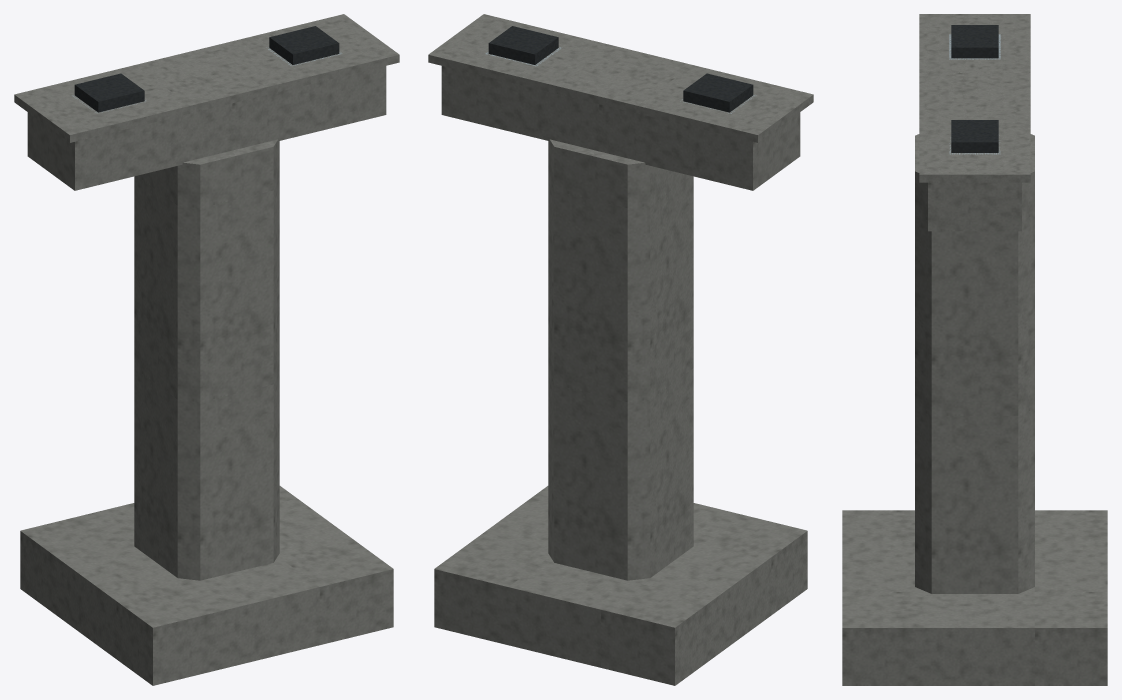
File: PZ_Caldera_Pier_06m.glb
3 renders of one model, left to right at view 1: azimuth 30°, elevation 25°; view 2: azimuth 150°, elevation 25°; view 3: azimuth 270°, elevation 25°, orthographic.
Visible parts, largest first — view 1: PZ_Caldera_Pier_06m_OCTAGONAL_REINFORCED_COLUMN, PZ_Caldera_Pier_06m_SPREAD_FOOTING, PZ_Caldera_Pier_06m_TOP_PLATE, PZ_Caldera_Pier_06m_REINFORCED_HEADSTOCK, PZ_Caldera_Pier_06m_ELASTOMERIC_BEARING_L, PZ_Caldera_Pier_06m_ELASTOMERIC_BEARING_R; view 2: PZ_Caldera_Pier_06m_OCTAGONAL_REINFORCED_COLUMN, PZ_Caldera_Pier_06m_SPREAD_FOOTING, PZ_Caldera_Pier_06m_TOP_PLATE, PZ_Caldera_Pier_06m_REINFORCED_HEADSTOCK, PZ_Caldera_Pier_06m_ELASTOMERIC_BEARING_L, PZ_Caldera_Pier_06m_ELASTOMERIC_BEARING_R; view 3: PZ_Caldera_Pier_06m_OCTAGONAL_REINFORCED_COLUMN, PZ_Caldera_Pier_06m_SPREAD_FOOTING, PZ_Caldera_Pier_06m_TOP_PLATE, PZ_Caldera_Pier_06m_REINFORCED_HEADSTOCK, PZ_Caldera_Pier_06m_ELASTOMERIC_BEARING_L, PZ_Caldera_Pier_06m_ELASTOMERIC_BEARING_R.
Boxes of the visible parts, <box> form: PZ_Caldera_Pier_06m_OCTAGONAL_REINFORCED_COLUMN: <box>134,139,279,580</box>; PZ_Caldera_Pier_06m_SPREAD_FOOTING: <box>20,486,393,685</box>; PZ_Caldera_Pier_06m_TOP_PLATE: <box>14,14,399,142</box>; PZ_Caldera_Pier_06m_REINFORCED_HEADSTOCK: <box>27,66,386,190</box>; PZ_Caldera_Pier_06m_ELASTOMERIC_BEARING_L: <box>74,73,144,112</box>; PZ_Caldera_Pier_06m_ELASTOMERIC_BEARING_R: <box>269,26,339,64</box>; PZ_Caldera_Pier_06m_OCTAGONAL_REINFORCED_COLUMN: <box>548,139,693,580</box>; PZ_Caldera_Pier_06m_SPREAD_FOOTING: <box>434,486,807,685</box>; PZ_Caldera_Pier_06m_TOP_PLATE: <box>428,14,813,142</box>; PZ_Caldera_Pier_06m_REINFORCED_HEADSTOCK: <box>441,66,800,190</box>; PZ_Caldera_Pier_06m_ELASTOMERIC_BEARING_L: <box>683,73,753,112</box>; PZ_Caldera_Pier_06m_ELASTOMERIC_BEARING_R: <box>488,26,558,64</box>; PZ_Caldera_Pier_06m_OCTAGONAL_REINFORCED_COLUMN: <box>915,134,1034,593</box>; PZ_Caldera_Pier_06m_SPREAD_FOOTING: <box>842,510,1107,685</box>; PZ_Caldera_Pier_06m_TOP_PLATE: <box>919,14,1030,182</box>; PZ_Caldera_Pier_06m_REINFORCED_HEADSTOCK: <box>928,182,1021,231</box>; PZ_Caldera_Pier_06m_ELASTOMERIC_BEARING_L: <box>951,25,998,58</box>; PZ_Caldera_Pier_06m_ELASTOMERIC_BEARING_R: <box>951,120,998,152</box>.
Bounding box in the file's own units: 3.56 × 5.61 × 2.48.
3 materials, 3 textured.
